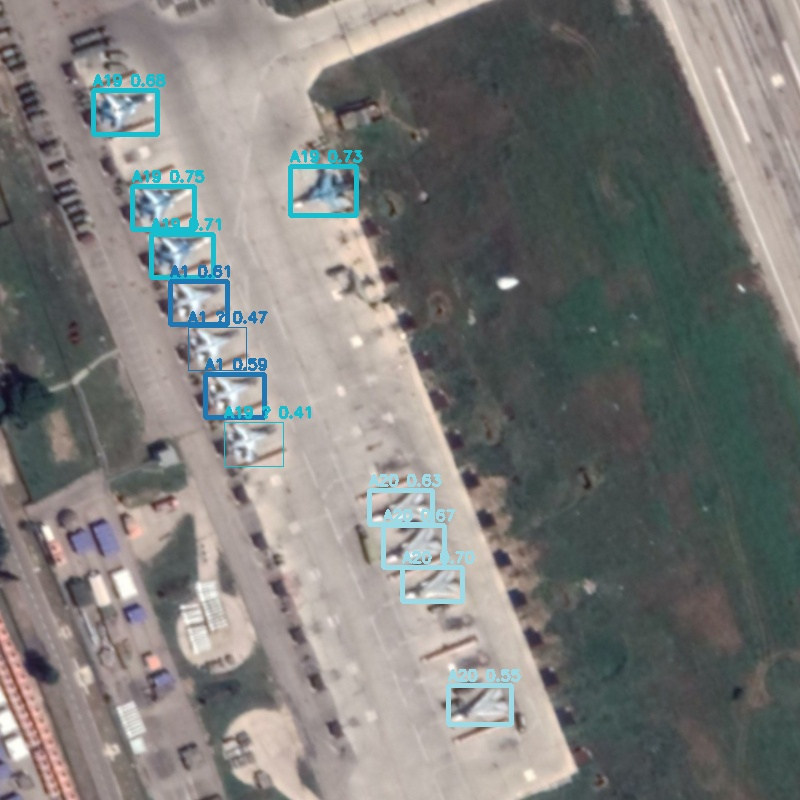A1: (205, 374, 264, 417), (188, 327, 246, 370), (170, 281, 227, 324)
A19: (290, 166, 356, 215), (93, 90, 157, 134), (132, 186, 194, 229), (151, 234, 213, 277), (224, 422, 283, 466)
A20: (383, 525, 444, 567), (448, 685, 511, 724), (369, 490, 432, 524), (402, 567, 462, 601)
